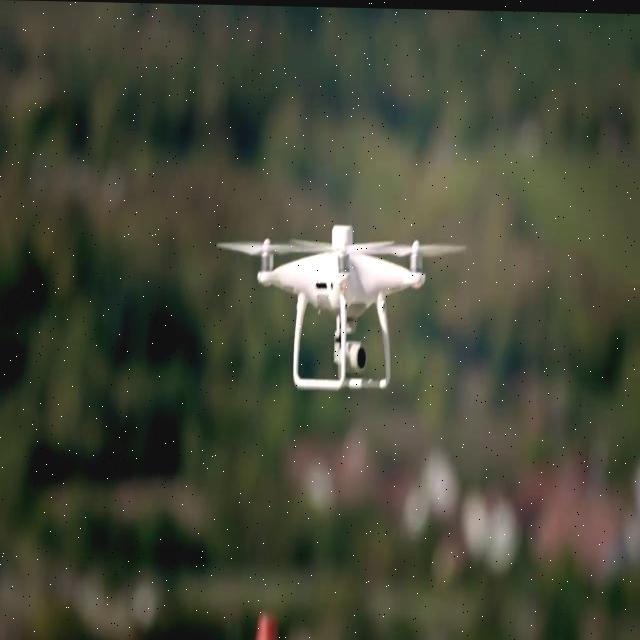drone: (214, 216, 468, 397)
